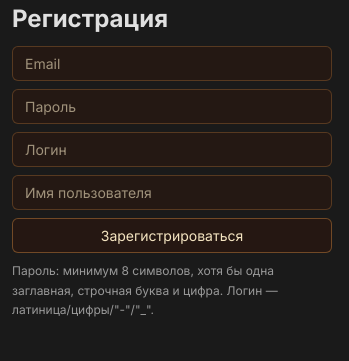
Scenario: RegisterForm › should validate email format
Step 1. Type "invalid-email" into the field with placeholder "Email" → (172, 64), box [12,46,332,81]
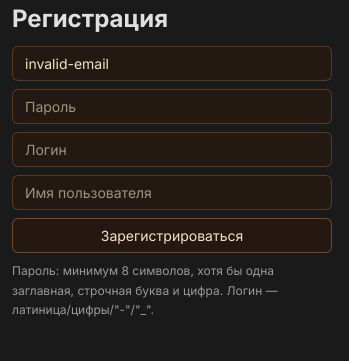
Step 2. Type "Password123" into the password field with placeholder "Пароль" → (172, 107), box [12,89,332,124]
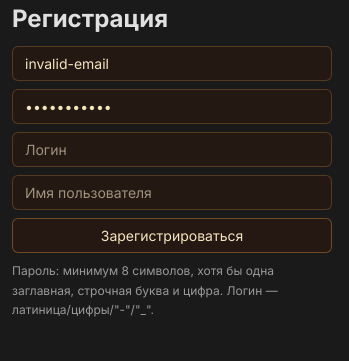
Step 3. Submit the form with placeholder "Email"
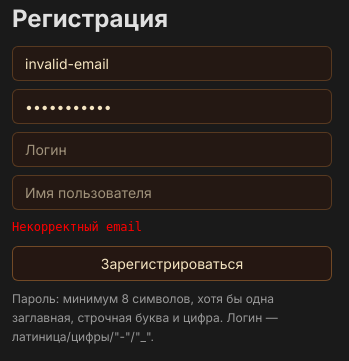
Expected: the text "Некорректный email" is shown, [12,220,142,234]
